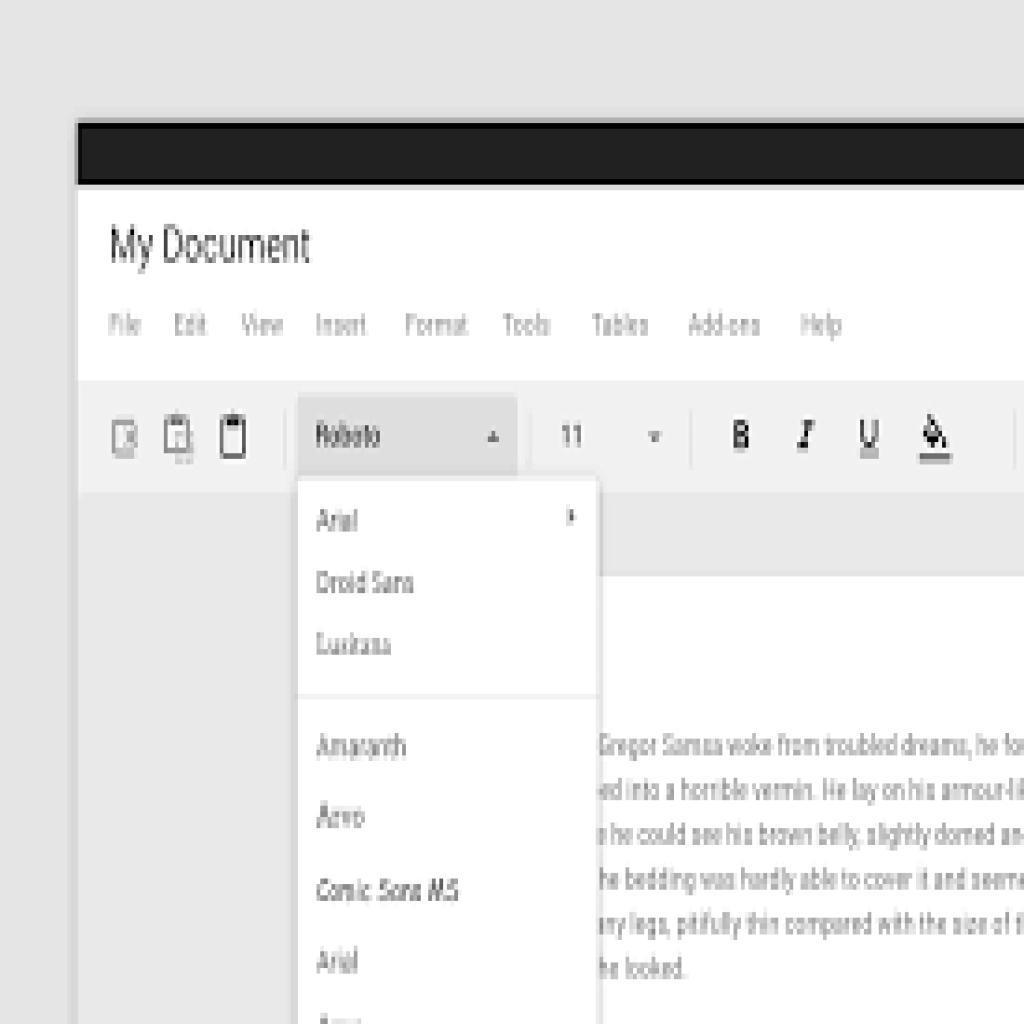dropdown: (293, 399, 514, 480)
icon: (159, 412, 202, 472), (912, 416, 957, 468), (216, 410, 255, 467), (106, 416, 144, 469), (853, 416, 893, 462), (790, 411, 821, 459), (729, 410, 755, 458)
